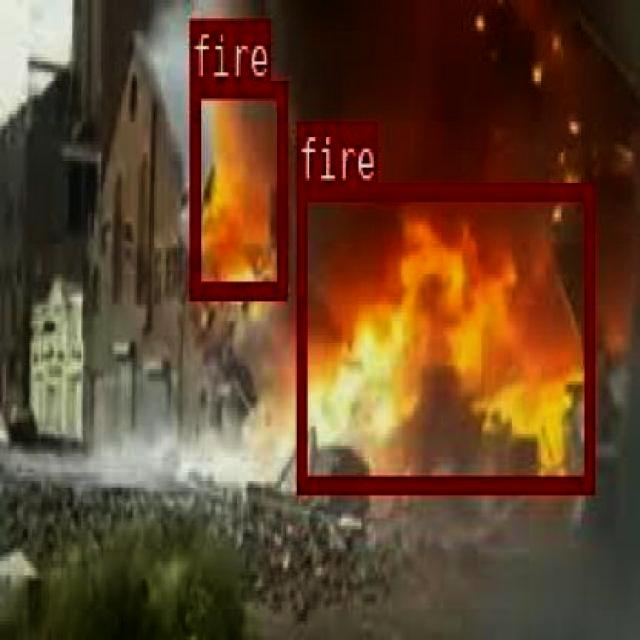fire: (294, 180, 594, 488), (188, 77, 284, 297)
